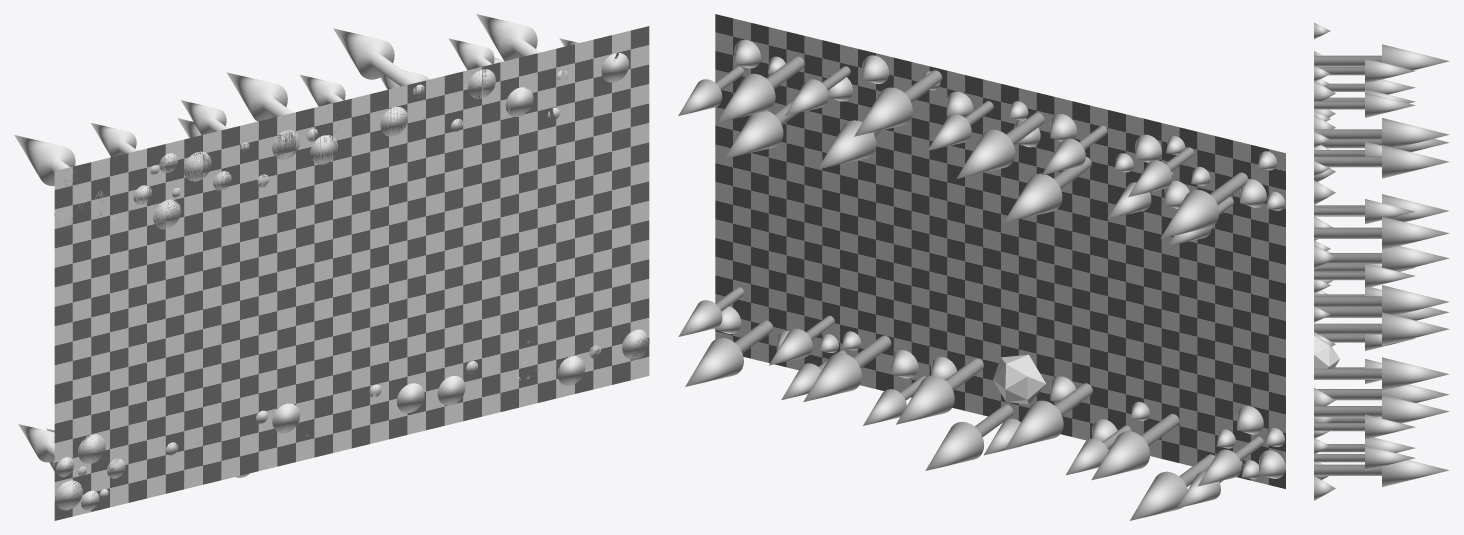
The model's file is forest19.dae.
The picture shows the model from 3 angles, left to right: view 1: azimuth 30°, elevation 25°; view 2: azimuth 150°, elevation 25°; view 3: azimuth 270°, elevation 25°; orthographic projection. The views are drawn at different scales.
Parts seen in each view (by area): view 1: Plane.045, Cone.2791, Cone.2783, Cone.2792, Cone.2770, Cone.2763, Cone.2760, Cone.2774, Cone.2811, Cone.2789; view 2: Plane.045, Cone.2784, Cone.2781, Cone.2792, Cone.2791, Cone.2783, Cone.2810, Cone.2798, Cone.2802, Cone.2752, Cone.2770, Cone.2780 (+17 smaller); view 3: Cone.2792, Cone.2781, Cone.2784, Cone.2791, Cone.2810, Cone.2798, Cone.2783, Cone.2802, Cone.2770, Cone.2761, Cone.2752, Cone.2809 (+24 smaller).
Boxes of the visible parts, bbox=[...] form: Plane.045: bbox=[54, 26, 649, 520]; Cone.2791: bbox=[333, 28, 424, 97]; Cone.2783: bbox=[226, 72, 317, 141]; Cone.2792: bbox=[476, 14, 567, 83]; Cone.2770: bbox=[14, 135, 105, 202]; Cone.2763: bbox=[181, 100, 249, 151]; Cone.2760: bbox=[91, 123, 159, 174]; Cone.2774: bbox=[18, 424, 86, 475]; Cone.2811: bbox=[448, 38, 494, 70]; Cone.2789: bbox=[300, 74, 345, 106]; Plane.045: bbox=[715, 14, 1285, 488]; Cone.2784: bbox=[896, 358, 983, 424]; Cone.2781: bbox=[1005, 383, 1092, 449]; Cone.2792: bbox=[717, 56, 804, 122]; Cone.2791: bbox=[854, 70, 941, 136]; Cone.2783: bbox=[956, 112, 1044, 178]; Cone.2810: bbox=[1091, 413, 1179, 480]; Cone.2798: bbox=[803, 335, 891, 401]; Cone.2802: bbox=[685, 320, 773, 386]; Cone.2752: bbox=[925, 404, 1013, 470]; Cone.2770: bbox=[1160, 172, 1248, 238]; Cone.2780: bbox=[1003, 156, 1091, 222]; Cone.2792: bbox=[1314, 216, 1449, 250]; Cone.2781: bbox=[1314, 312, 1449, 345]; Cone.2784: bbox=[1314, 357, 1448, 390]; Cone.2791: bbox=[1314, 145, 1449, 178]; Cone.2810: bbox=[1314, 285, 1448, 315]; Cone.2798: bbox=[1314, 394, 1449, 423]; Cone.2783: bbox=[1314, 118, 1449, 148]; Cone.2802: bbox=[1314, 460, 1448, 487]; Cone.2770: bbox=[1314, 44, 1449, 70]; Cone.2761: bbox=[1325, 246, 1449, 271]; Cone.2752: bbox=[1317, 384, 1449, 402]; Cone.2809: bbox=[1314, 263, 1414, 288].
Size of the model in its own units: 64.07 by 16 by 37.96.
Materials: 1 (1 with a texture image).
